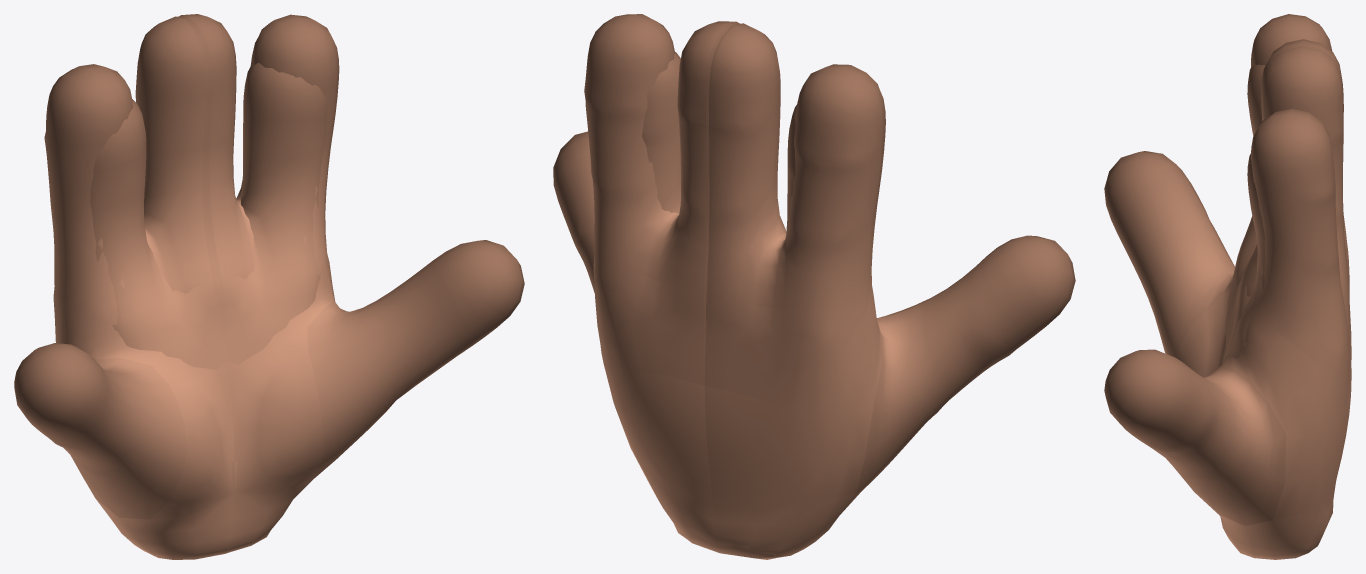
Rendered from hands.fbx.
3 views of the same model, side by side, from view 1: azimuth 30°, elevation 25°; view 2: azimuth 150°, elevation 25°; view 3: azimuth 270°, elevation 25° (orthographic). The views are drawn at different scales.
Parts seen in each view (by area): view 1: Mano.003, Mano.002; view 2: Mano.003, Mano.002; view 3: Mano.002, Mano.003.
Boxes of the visible parts, left/top/right/bottom form: Mano.003: left=14, top=16, right=327, bottom=559; Mano.002: left=90, top=14, right=524, bottom=554; Mano.003: left=642, top=23, right=1075, bottom=558; Mano.002: left=553, top=14, right=796, bottom=559; Mano.002: left=1104, top=46, right=1351, bottom=559; Mano.003: left=1104, top=14, right=1351, bottom=551.
Size of the model in its own units: 27.81 by 27.33 by 12.44.
